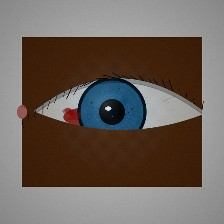hemorrhage_spot: (51, 80, 143, 154)
